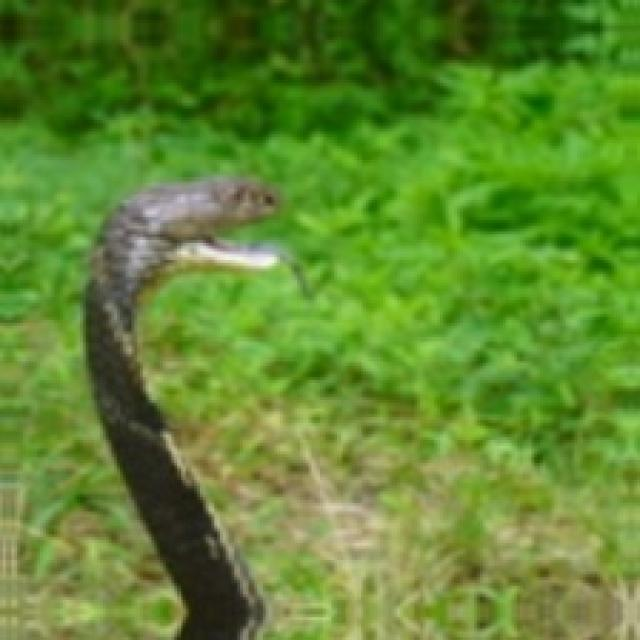king cobra: (86, 177, 277, 637), (86, 177, 274, 637)
